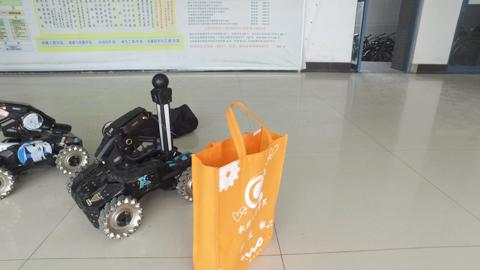bag: (194, 102, 284, 269)
chariot: (68, 76, 194, 238), (1, 97, 87, 201)
